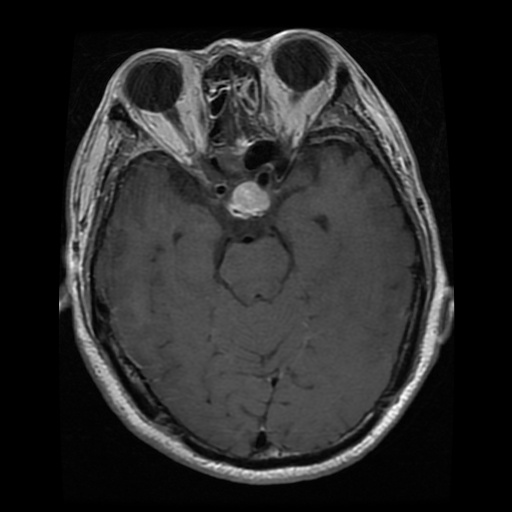pituitary: (231, 180, 268, 210)
